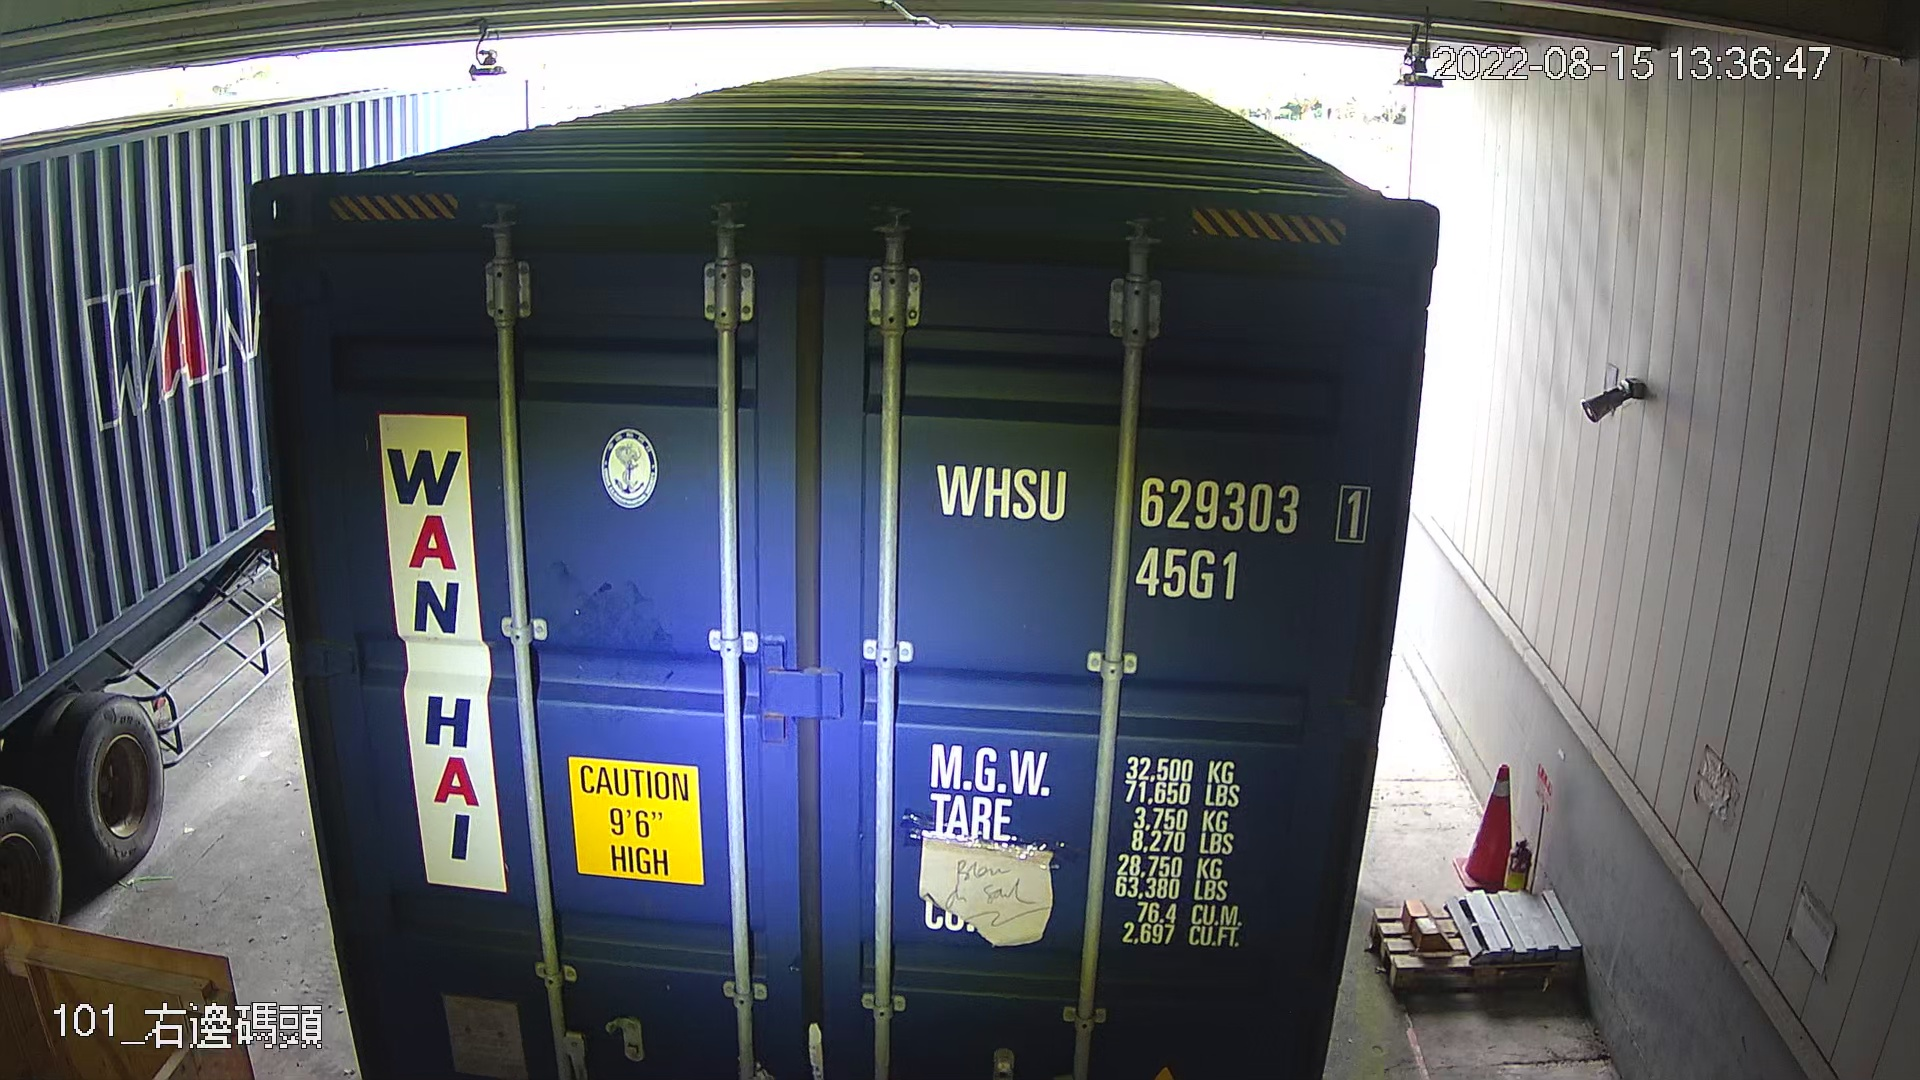container: (920, 442, 1379, 611)
